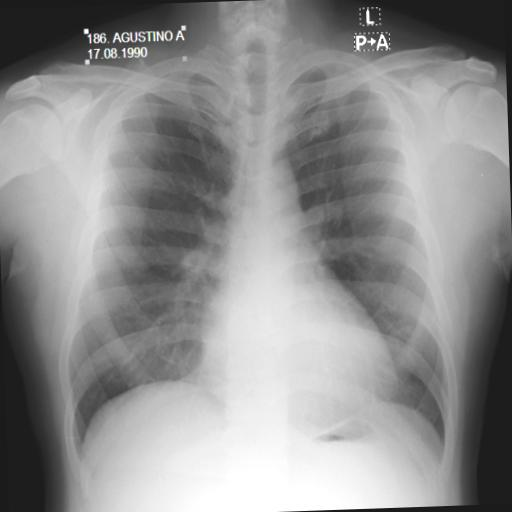kardiomegali: (43, 34, 458, 473)
